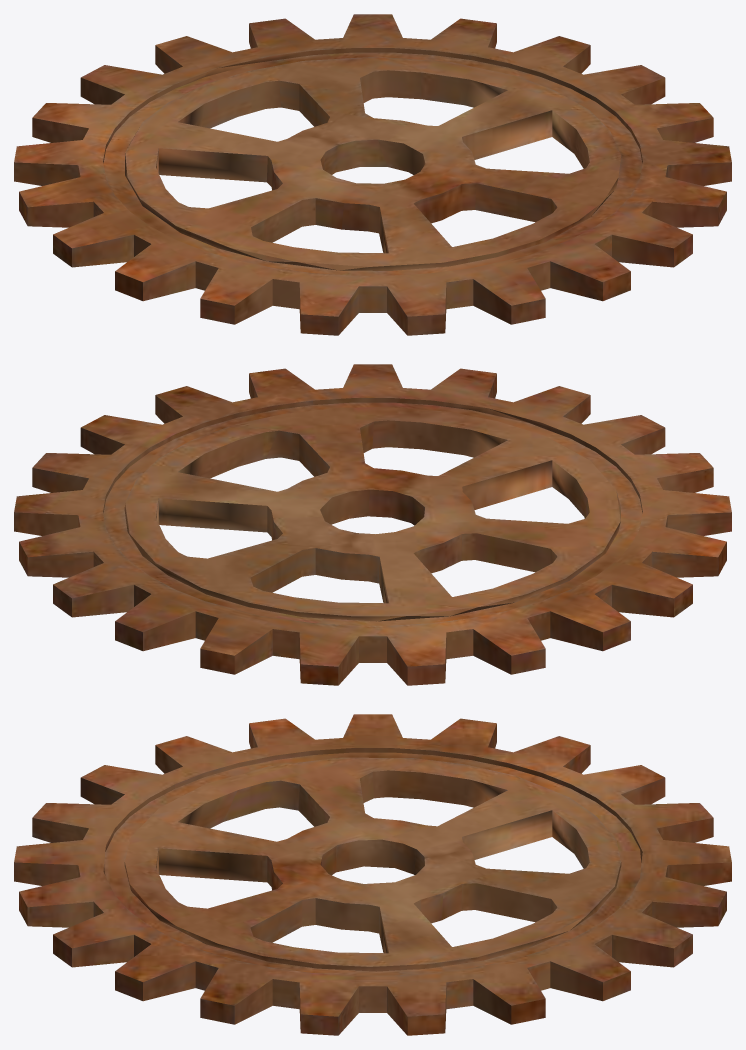
File: steampunk_gear_05.glb
3 renders of one model, top to bottom at view 1: azimuth 30°, elevation 25°; view 2: azimuth 150°, elevation 25°; view 3: azimuth 270°, elevation 25°, orthographic.
Visible parts, largest first — view 1: steampunk_gear_05; view 2: steampunk_gear_05; view 3: steampunk_gear_05.
Part boxes in pixels (box(x1,y1,x2,y2)): steampunk_gear_05: box(14, 14, 731, 335); steampunk_gear_05: box(14, 364, 731, 685); steampunk_gear_05: box(14, 714, 731, 1035).
Size of what is drawn, in the model's own units: 0.1552 by 0.00641 by 0.1557.
Materials: 1 (1 with a texture image).
